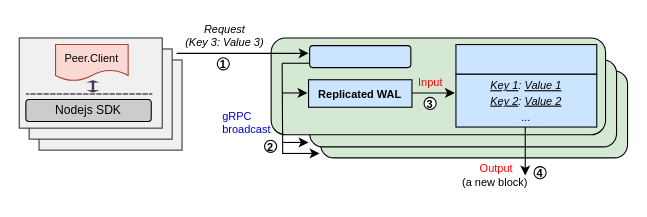
Some shapes in this 647 by 217 pixel diagram are drawn without their labels. The shapes that lost their labels are listed below. From the top down, each one's box as (x1, y1, x2, y2) in pixels, then its label:
(309, 45, 411, 68): Consensus
(455, 43, 597, 74): Replicated State Machine
